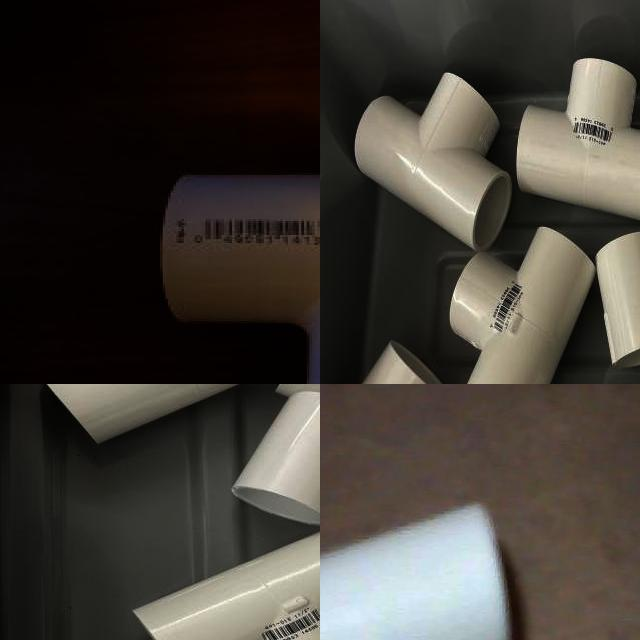L Joint: (158, 174, 320, 384)
T Joint: (353, 73, 515, 253), (320, 503, 527, 640), (450, 228, 596, 384), (132, 530, 320, 640), (516, 58, 640, 220), (41, 384, 244, 446)
